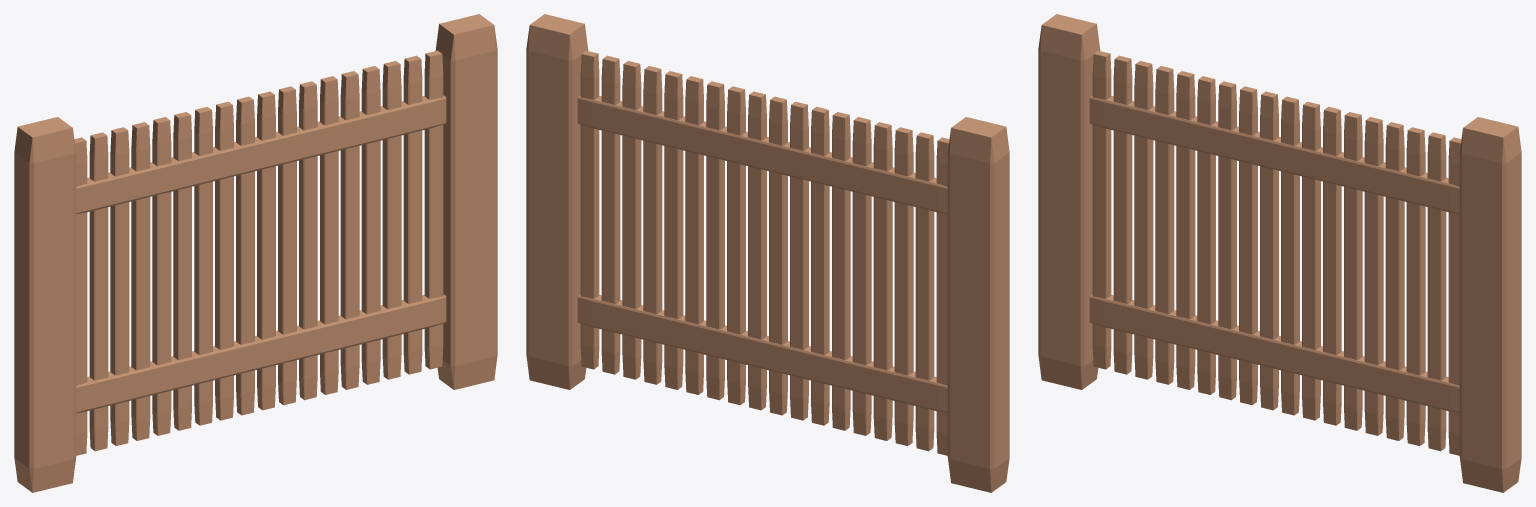
The model's file is b19_horizontal_cedar_slat_fence.glb.
3 renders of one model, left to right at view 1: azimuth 30°, elevation 25°; view 2: azimuth 150°, elevation 25°; view 3: azimuth 330°, elevation 25°, orthographic.
Parts seen in each view (by area): view 1: b19_horizontal_cedar_slat_fence; view 2: b19_horizontal_cedar_slat_fence; view 3: b19_horizontal_cedar_slat_fence.
Part boxes in pixels (box(x1,y1,x2,y2)): b19_horizontal_cedar_slat_fence: box(14, 14, 497, 492); b19_horizontal_cedar_slat_fence: box(526, 14, 1009, 492); b19_horizontal_cedar_slat_fence: box(1038, 14, 1521, 492).
Size of the model in its own units: 2.61 by 1.89 by 0.168.
